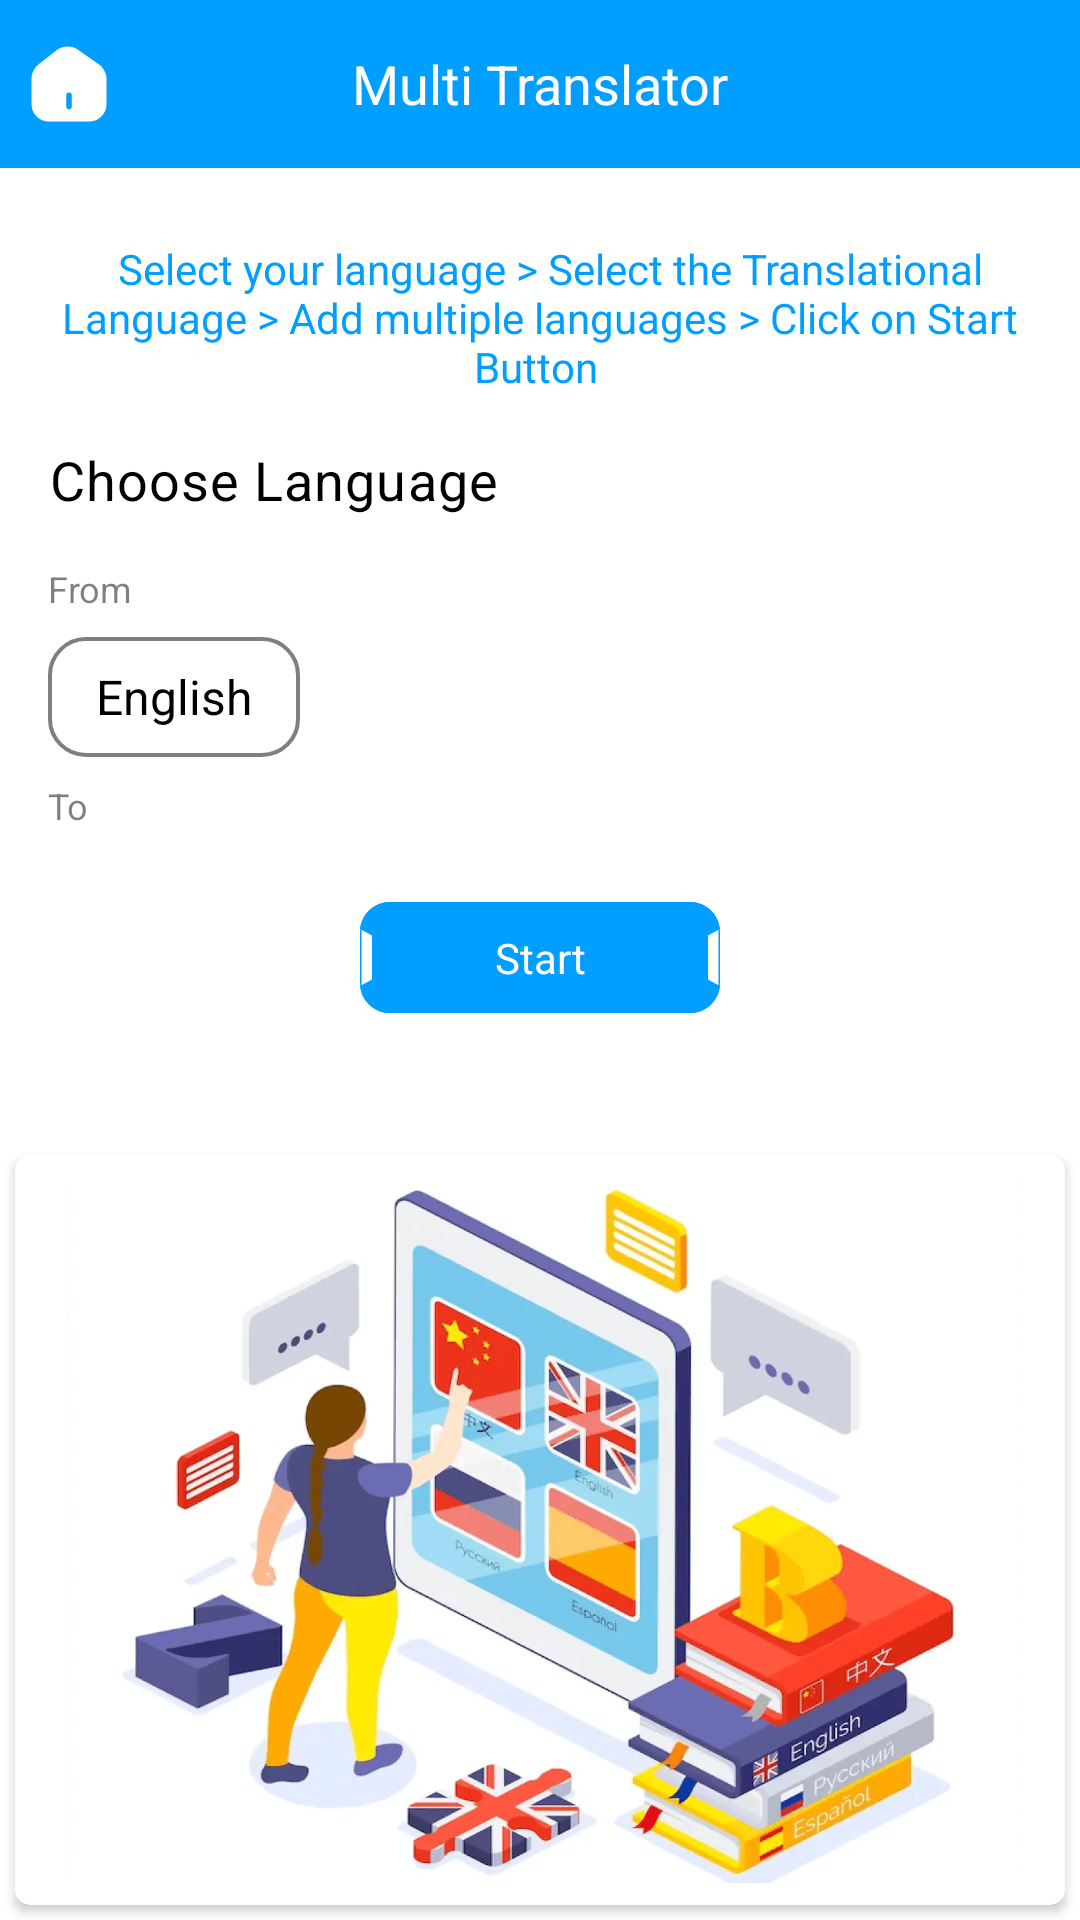

Locate icon controls on the screen. Image size 1080 x 1920, boxes as (x1, y1, x2, y2).
home: (31, 46, 107, 122)
